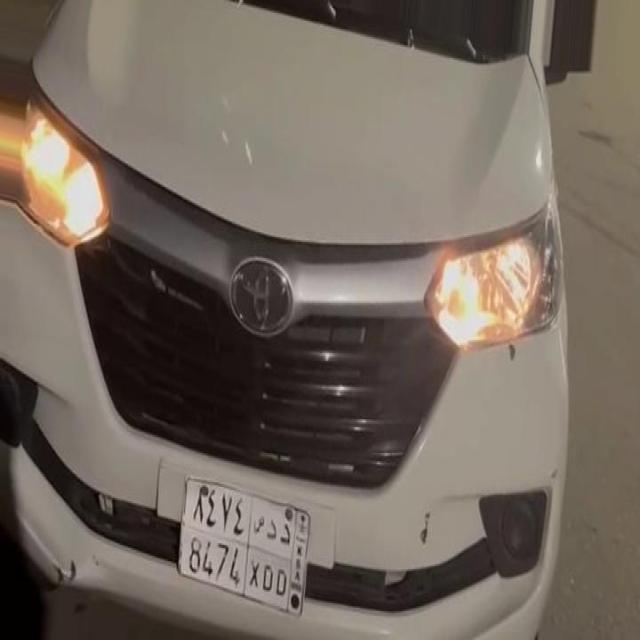Car-plate: (166, 449, 321, 636)
